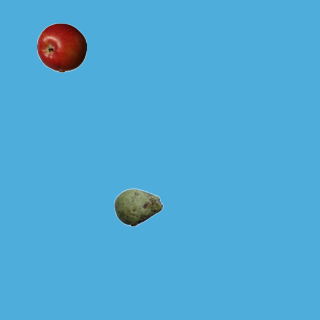Apple Braeburn: (36, 22, 86, 72)
Pear Stone: (113, 182, 163, 232)
